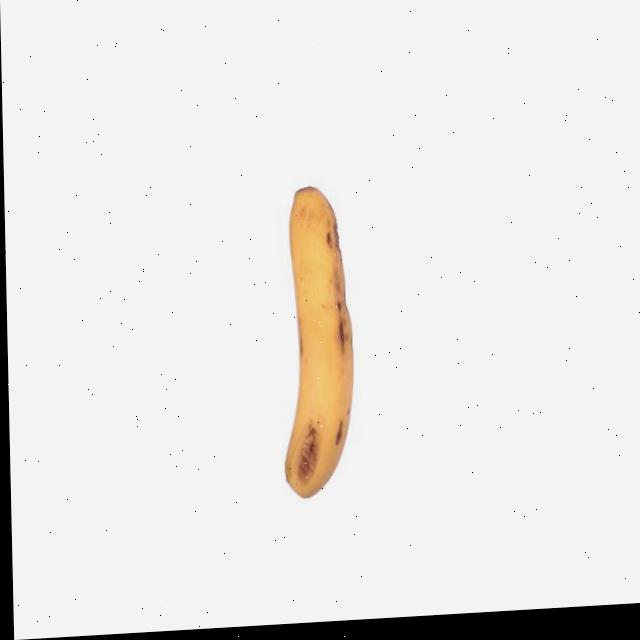banana: (273, 178, 362, 510)
